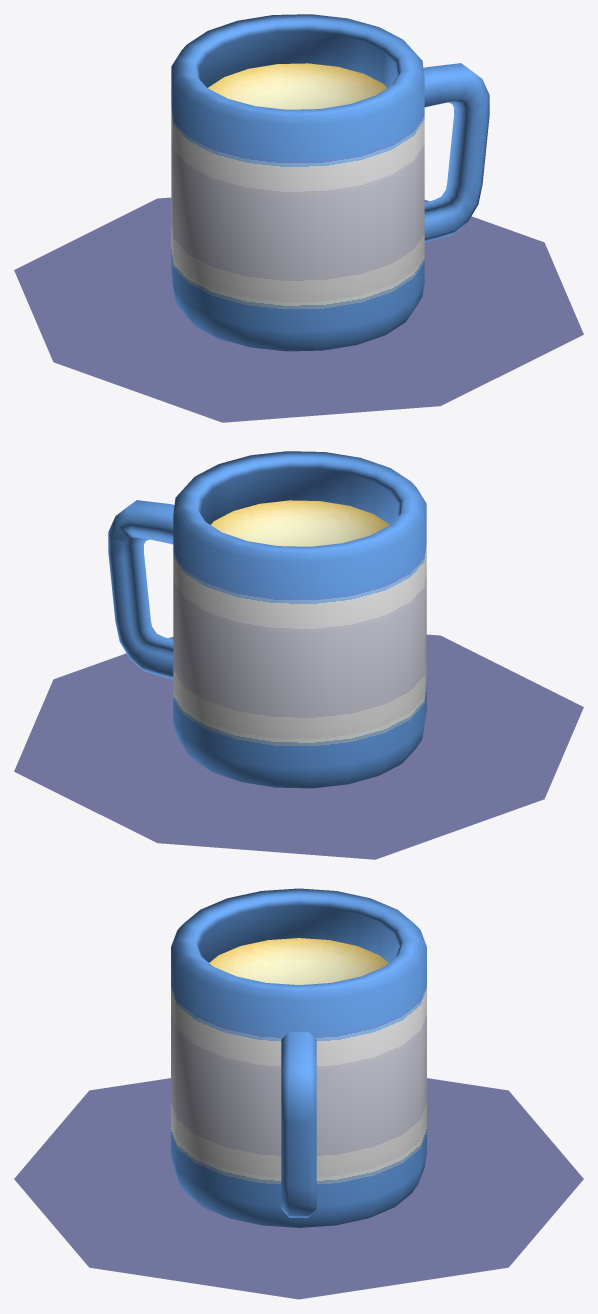
File: rmk_oth_mug.fbx
3 renders of one model, top to bottom at view 1: azimuth 30°, elevation 25°; view 2: azimuth 150°, elevation 25°; view 3: azimuth 270°, elevation 25°, orthographic.
Parts seen in each view (by area): view 1: rmk_oth_mug, sdw_circle; view 2: rmk_oth_mug, sdw_circle; view 3: rmk_oth_mug, sdw_circle.
Part boxes in pixels (x1,y1,x2,y2): rmk_oth_mug: [171, 14, 489, 351]; sdw_circle: [14, 197, 583, 422]; rmk_oth_mug: [108, 451, 426, 788]; sdw_circle: [14, 634, 583, 859]; rmk_oth_mug: [171, 888, 426, 1227]; sdw_circle: [14, 1078, 583, 1299].
Size of the model in its own units: 0.0522 by 0.0241 by 0.0522.
